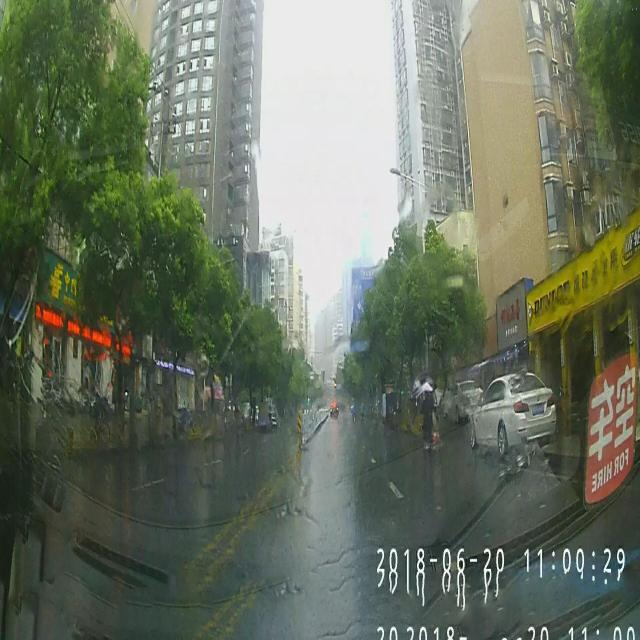car: (468, 372, 556, 452), (441, 381, 488, 424)
